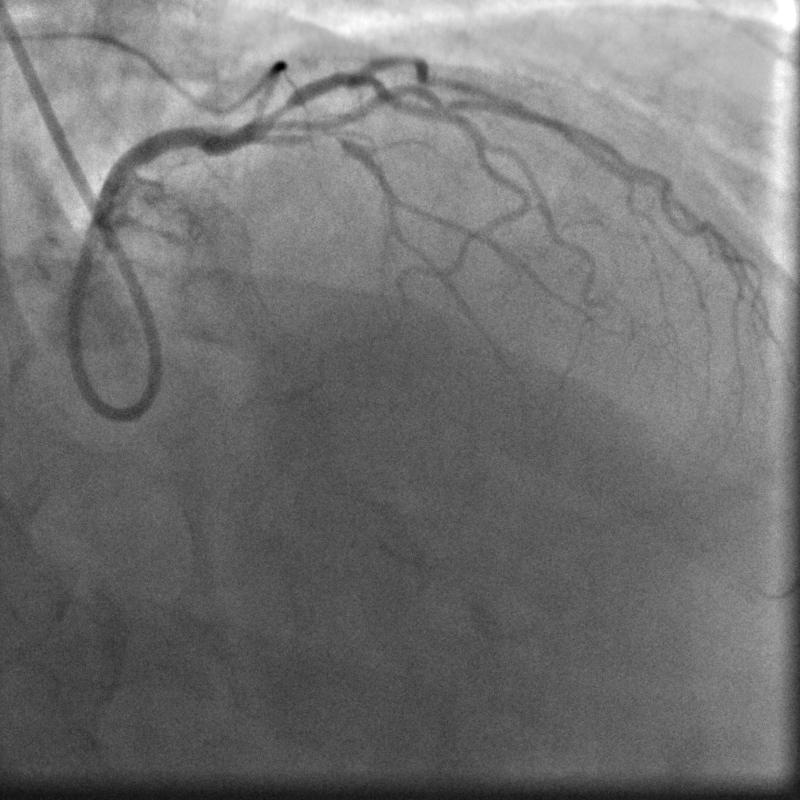Stenosis: (263, 97, 299, 126)
